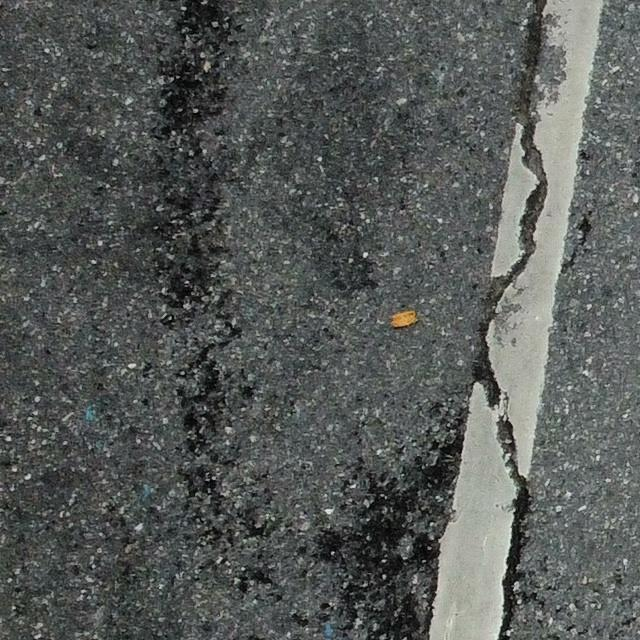LongitudinalCrack: (475, 1, 549, 630)
